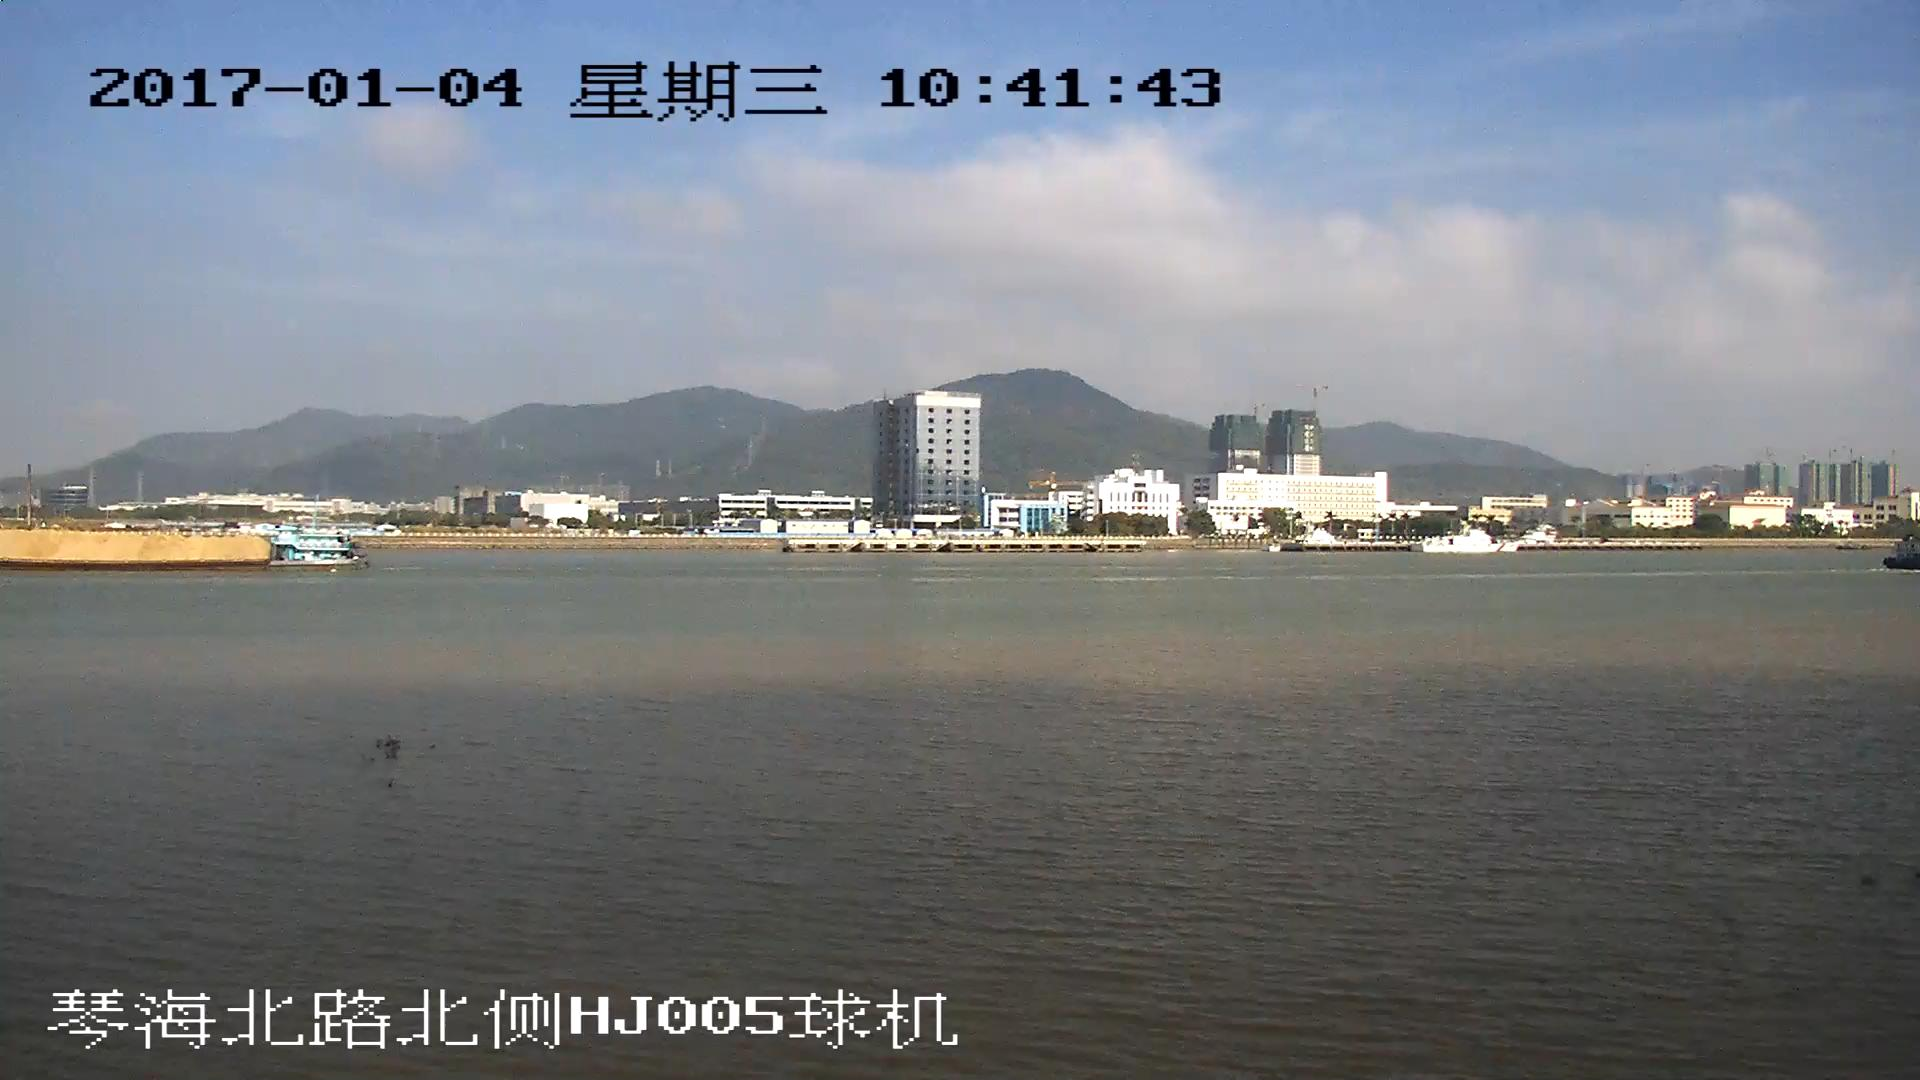ore carrier: (1, 528, 366, 574)
